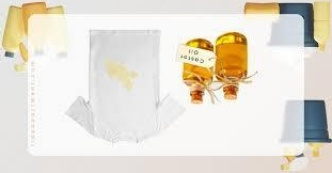oil: (106, 58, 139, 89)
